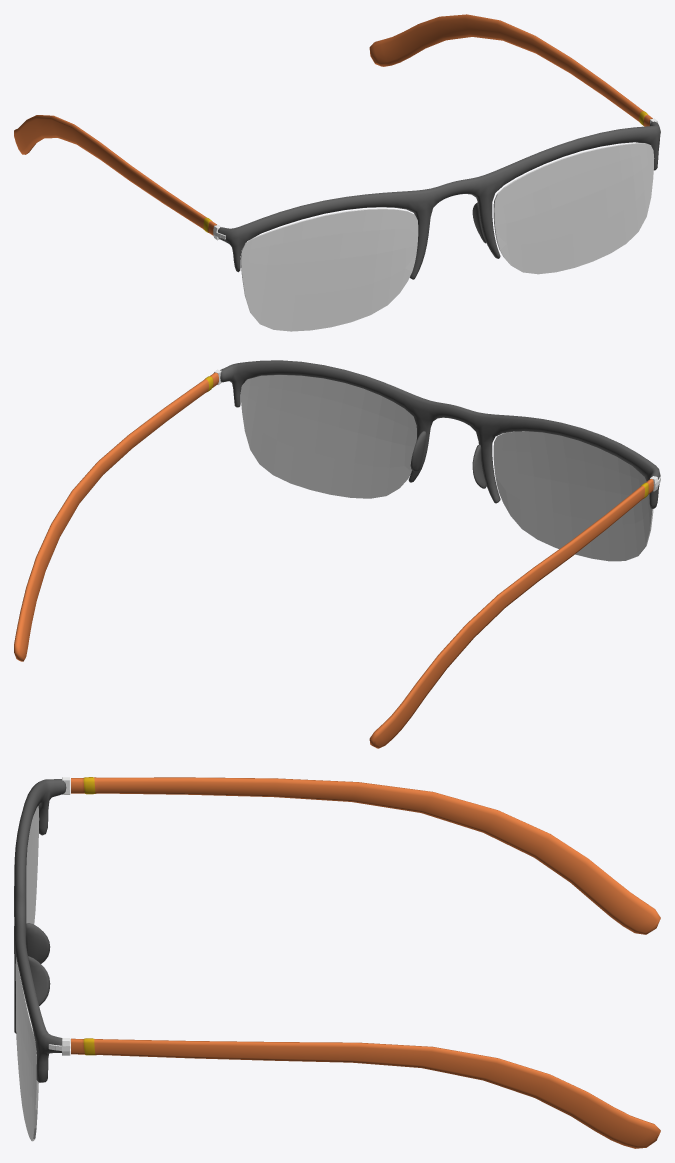
The model's file is glasses.glb.
3 renders of one model, top to bottom at view 1: azimuth 30°, elevation 25°; view 2: azimuth 150°, elevation 25°; view 3: azimuth 270°, elevation 25°, orthographic. The views are drawn at different scales.
Parts seen in each view (by area): view 1: Plane.005; view 2: Plane.005; view 3: Plane.005.
Boxes of the visible parts, bbox=[...] form: Plane.005: bbox=[14, 14, 660, 331]; Plane.005: bbox=[14, 360, 660, 748]; Plane.005: bbox=[14, 777, 660, 1148].
Size of the model in its own units: 0.1442 by 0.0396 by 0.1481.
